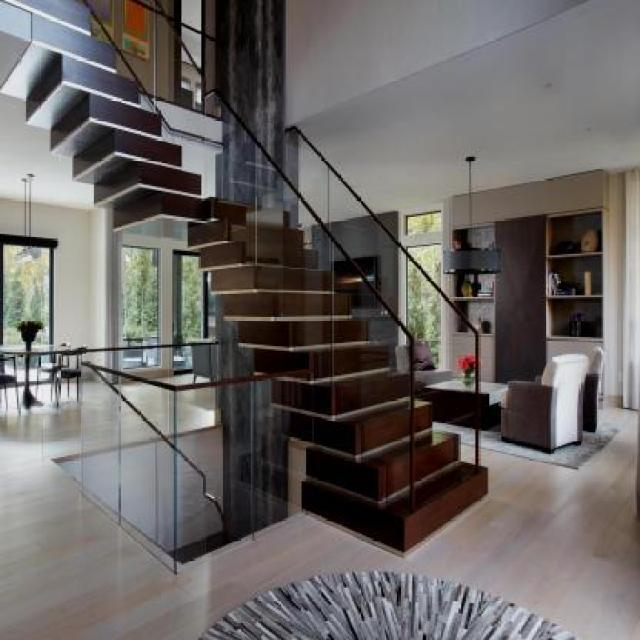stair: (158, 166, 508, 540)
